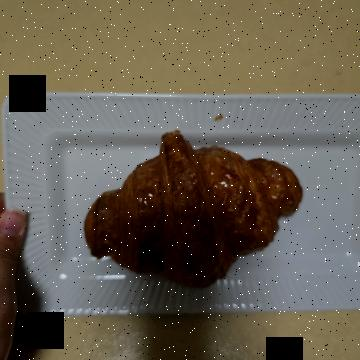croissant: (124, 57, 298, 297)
